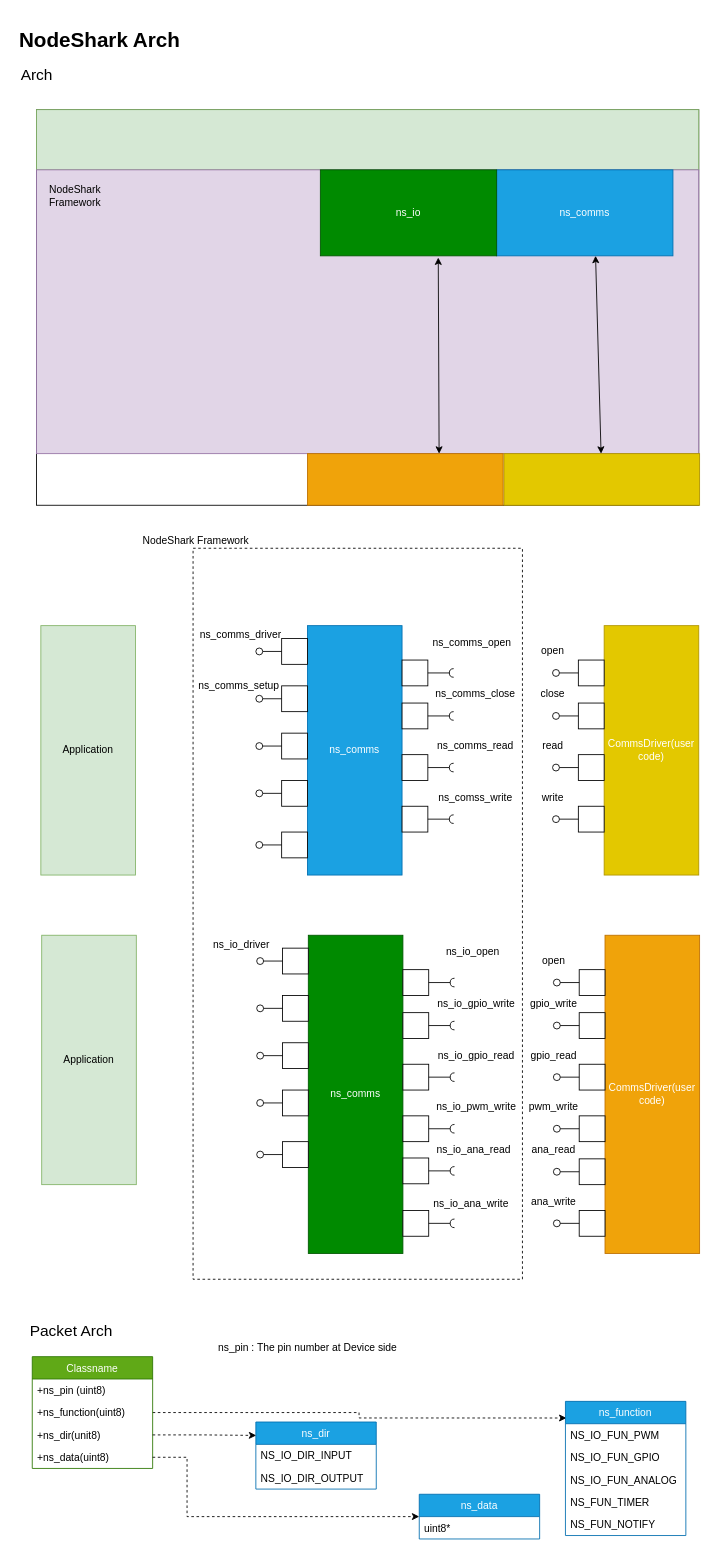
The diagram is 715 pixels wide and 1556 high, and some of its shapes have lost their labels. Here are the shapes that lost their labels. From the top down, the centre of each, then its label:
At point (367, 139): "Application code".
At point (405, 479): "vendors IO Driver".
At point (601, 479): "vendors Comms API".
